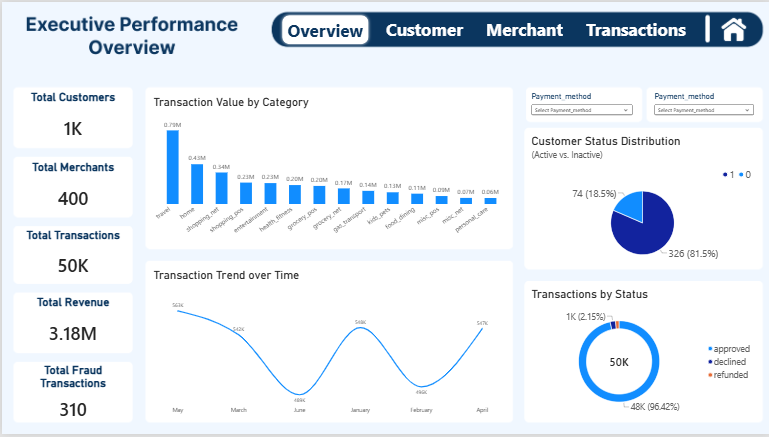

The page's visual inventory and layout, read from the dashboard file:
{"tool":"powerbi","page":{"name":"Overview page","canvas":[1920,1080],"ordinal":1},"visuals":[{"type":"shape","box":[693.3,25,231.7,88.3],"z":0},{"type":"textbox","box":[960,38.8,222.5,57.5],"z":1000},{"type":"textbox","box":[1210,38.8,222.5,57.5],"z":2000},{"type":"textbox","box":[1460,38.8,265,57.5],"z":3000},{"type":"image","box":[1788.7,19.3,84.7,97.3],"z":4000},{"type":"cardVisual","title":"Total Customers","fields":{"Data":["Dax measure.number_cutomers"]},"box":[36.7,220,280.8,139.2],"z":5000},{"type":"cardVisual","title":"Total Merchants","fields":{"Data":["Dax measure.number_merchants"]},"box":[36.7,394.2,280.8,138.3],"z":6000},{"type":"cardVisual","title":"Total Transactions","fields":{"Data":["Dax measure.number_transaction"]},"box":[36.7,564.2,280.8,135],"z":7000},{"type":"cardVisual","title":"Total Revenue","fields":{"Data":["Dax measure.transaction_amount"]},"box":[36.7,732.5,280.8,138.3],"z":8000},{"type":"cardVisual","title":"Total Fraud Transactions","fields":{"Data":["Dax measure.Total_Fraud_Cases"]},"box":[36.7,903.3,280.8,146.7],"z":9000},{"type":"lineChart","title":"Transaction Trend over Time","fields":{"Category":["Gold DimDate.Month_name"],"Y":["Sum(Gold DimTransaction.Amount)"]},"box":[362.5,652.5,915,397.5],"z":10000},{"type":"pieChart","title":"Customer Status Distribution ","fields":{"Category":["Gold DimMerchant.IS_active"],"Y":["CountNonNull(Gold DimMerchant.IS_active)"]},"box":[1307.5,317.5,587.5,352.5],"z":11000},{"type":"donutChart","title":"Transactions by Status","fields":{"Category":["Gold DimTransaction.transaction_status"],"Y":["Dax measure.number_transaction"]},"box":[1307.5,700,587.5,350],"z":12000},{"type":"columnChart","title":"Transaction Value by Category","fields":{"Category":["Gold DimTransaction.Category"],"Y":["Dax measure.transaction_amount"]},"box":[362.5,220,915,395],"z":13000},{"type":"listSlicer","fields":{"Values":["Gold DimTransaction.Payment_method"]},"box":[1613.8,208.8,281.2,91.2],"z":13001},{"type":"listSlicer","fields":{"Values":["Gold DimTransaction.Payment_method"]},"box":[1307.5,208.8,285,91.2],"z":13002}]}

Visuals, with their boxes in screenshot pixels (x1, y1, x2, y2), scaled from the page's 1920x1080 canvas onto the 769x437 screenshot:
shape: detection(278, 10, 370, 46)
textbox: detection(384, 16, 474, 39)
textbox: detection(485, 16, 574, 39)
textbox: detection(585, 16, 691, 39)
image: detection(716, 8, 750, 47)
"Total Customers" cardVisual: detection(15, 89, 127, 145)
"Total Merchants" cardVisual: detection(15, 160, 127, 215)
"Total Transactions" cardVisual: detection(15, 228, 127, 283)
"Total Revenue" cardVisual: detection(15, 296, 127, 352)
"Total Fraud Transactions" cardVisual: detection(15, 366, 127, 425)
"Transaction Trend over Time" lineChart: detection(145, 264, 512, 425)
"Customer Status Distribution " pieChart: detection(524, 128, 759, 271)
"Transactions by Status" donutChart: detection(524, 283, 759, 425)
"Transaction Value by Category" columnChart: detection(145, 89, 512, 249)
listSlicer - Gold DimTransaction.Payment_method: detection(646, 84, 759, 121)
listSlicer - Gold DimTransaction.Payment_method: detection(524, 84, 638, 121)
